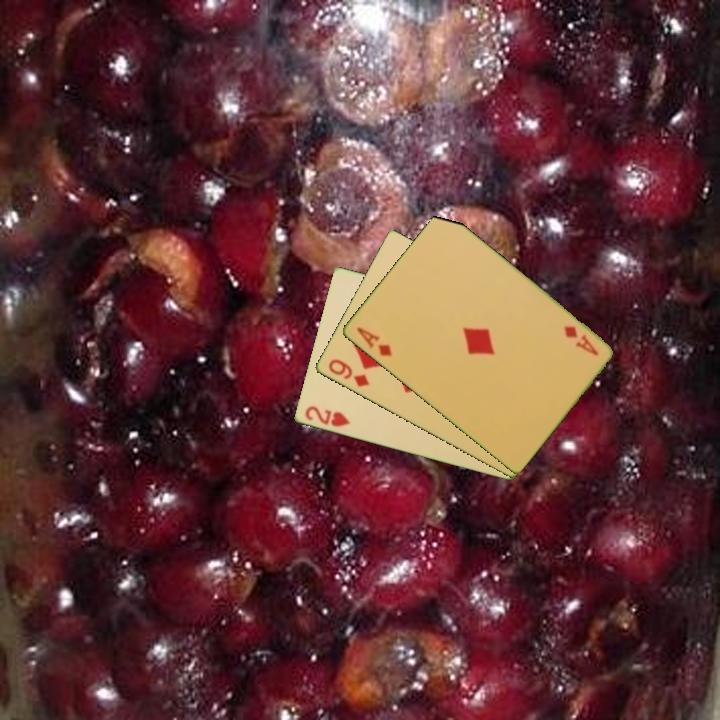2h: (301, 402, 352, 430)
9d: (324, 355, 372, 390)
Ad: (353, 323, 395, 360), (560, 322, 601, 359)
